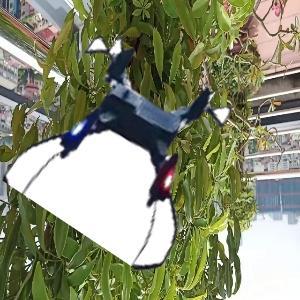drone: (28, 44, 229, 245)
